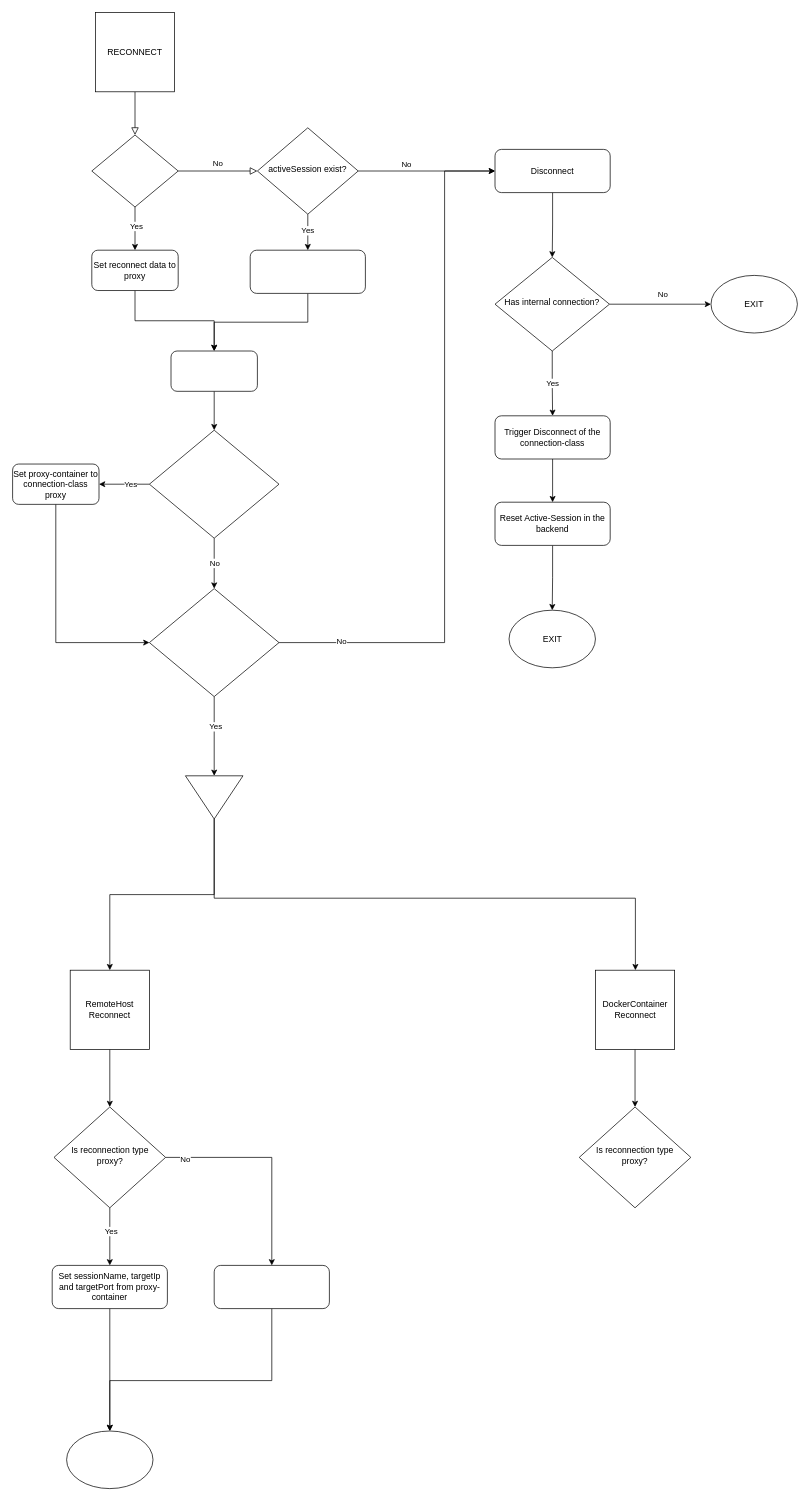
The diagram is 810 pixels wide and 1501 high, and some of its shapes have lost their labels. Here are the shapes that lost their labels. From the top down, the centre of each, then its label:
At (134,170): "proxy container exist?".
At (307,271): "Set reconnect data to activeSession".
At (213,370): "Create connection-class".
At (214,483): "Is Proxy-Container available?".
At (214,642): "Is the reconnection of the connection successful?".
At (271,1287): "Set sessionName, targetIp and targetPort from data of active-session".
At (109,1459): "CONNECT".
